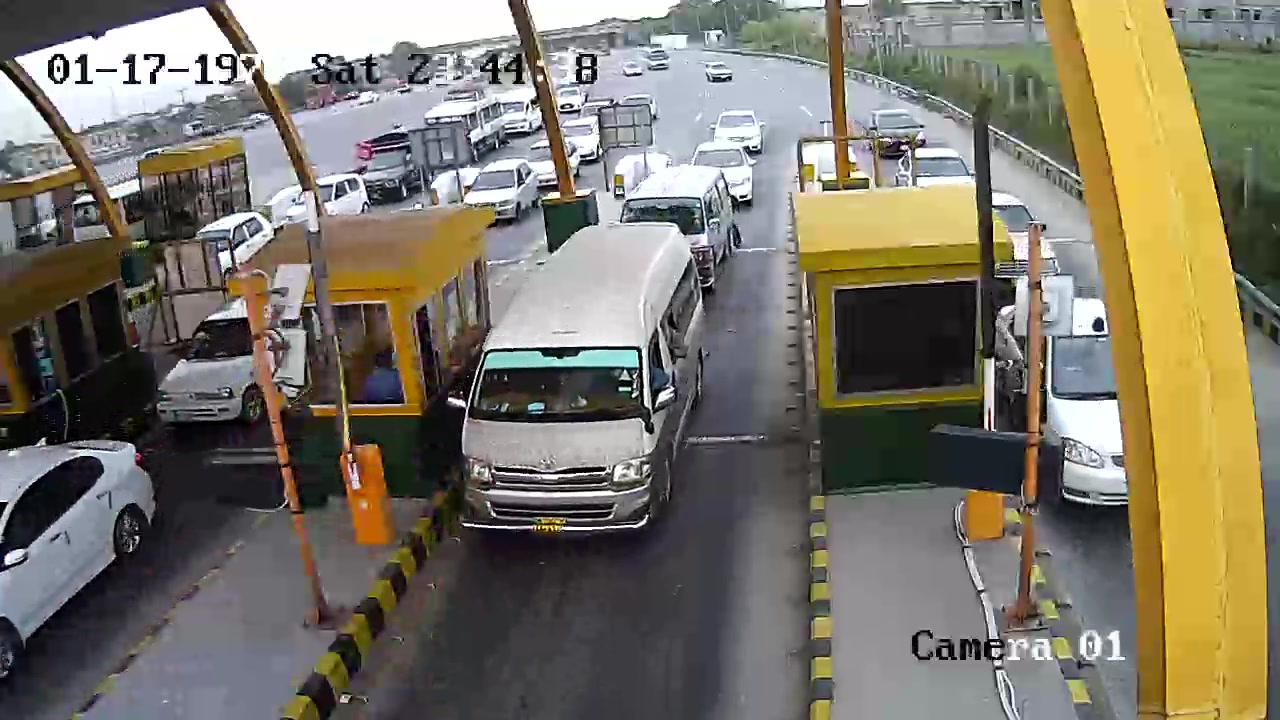F3: (445, 218, 732, 547)
